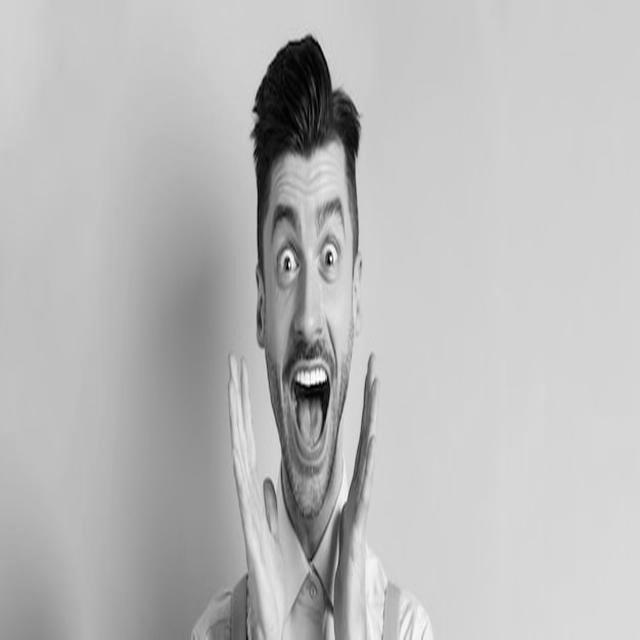Surprised: (261, 137, 355, 519)
